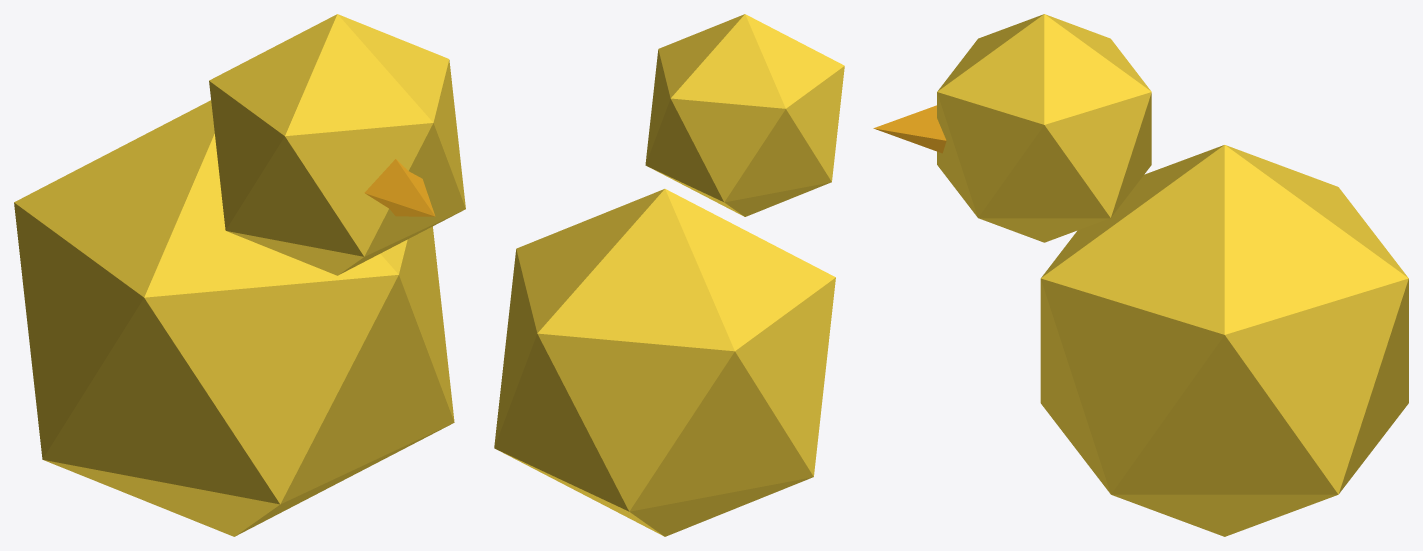
The model's file is chick.glb.
3 renders of one model, left to right at view 1: azimuth 30°, elevation 25°; view 2: azimuth 150°, elevation 25°; view 3: azimuth 270°, elevation 25°, orthographic. The views are drawn at different scales.
Parts seen in each view (by area): view 1: chick; view 2: chick; view 3: chick.
Part boxes in pixels (x1,y1,x2,y2): chick: (14, 14, 465, 536); chick: (494, 14, 844, 536); chick: (873, 14, 1408, 536).
Size of the model in its own units: 0.2147 by 0.32 by 0.2971.
